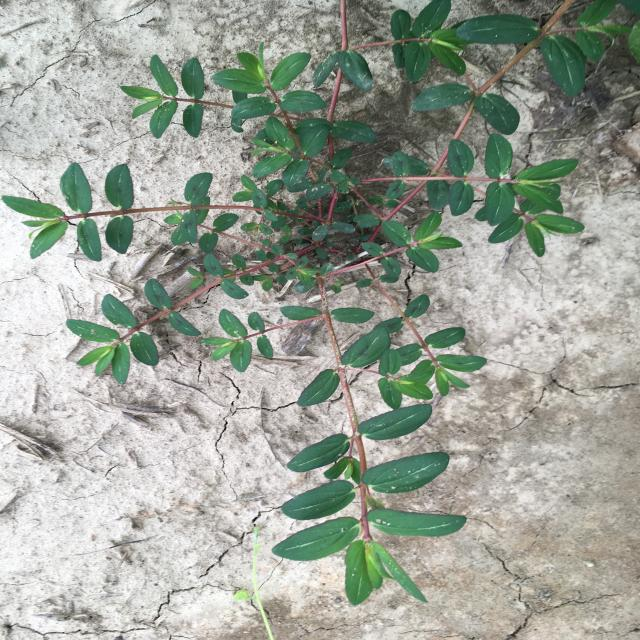SpottedSpurge: (1, 0, 640, 606)
